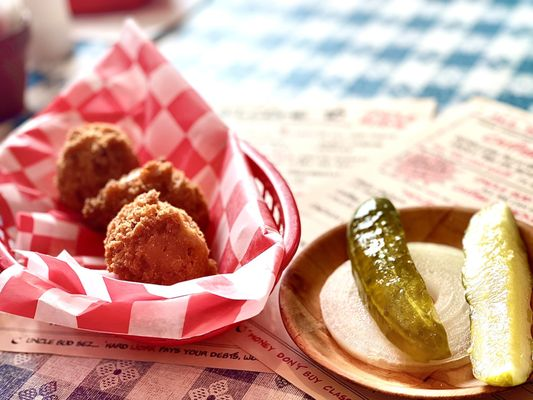pizza: (0, 0, 34, 124)
